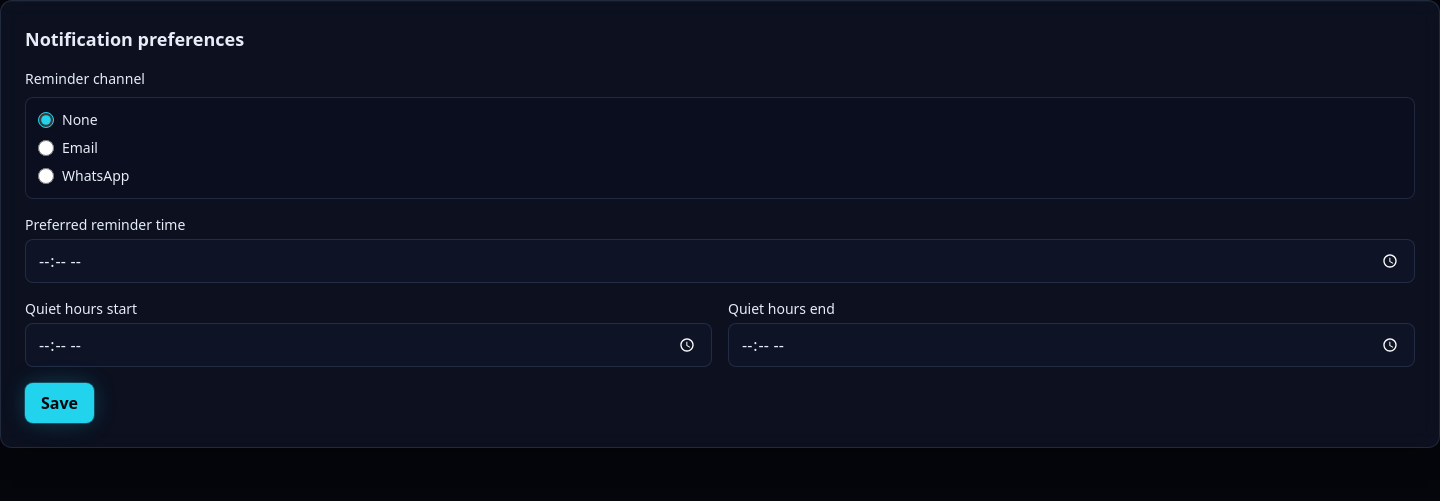
Scenario: NotificationPreferencesForm › saves successfully and shows a confirmation
The width and height of the screenshot is (1440, 501).
What coordinates should you click on to do the following:
click the radio button labelled "Email"
I would click on:
 (46, 148)
Its box is 38,140 -> 54,156.
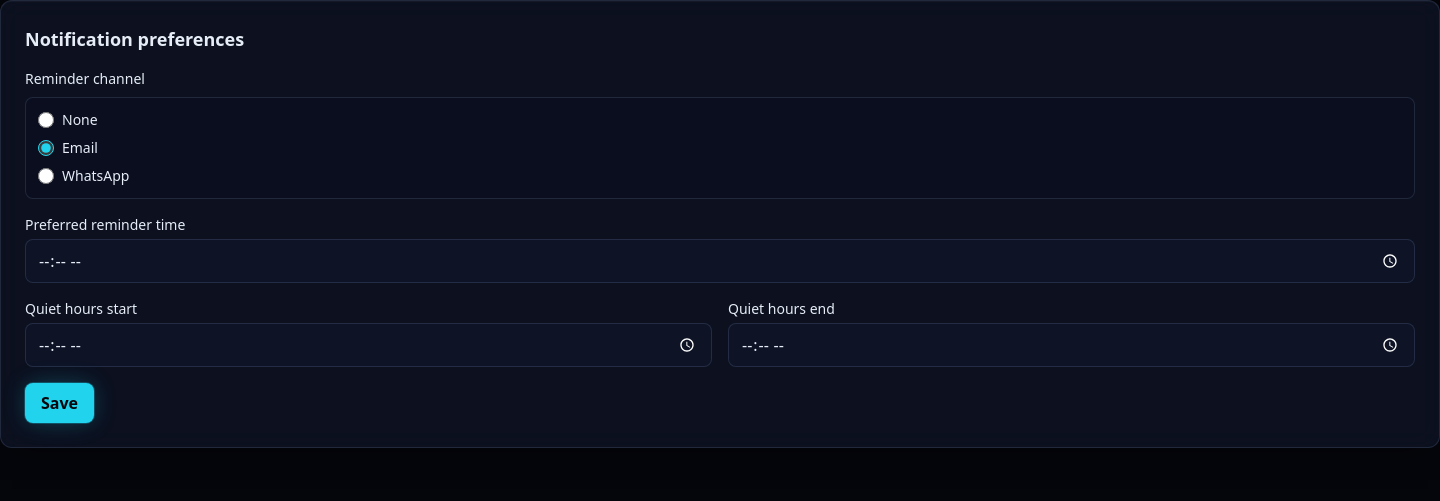
What coordinates should you click on to do the following:
click the button "Save"
I would click on:
 (60, 403)
Its box is 25,383 -> 94,423.
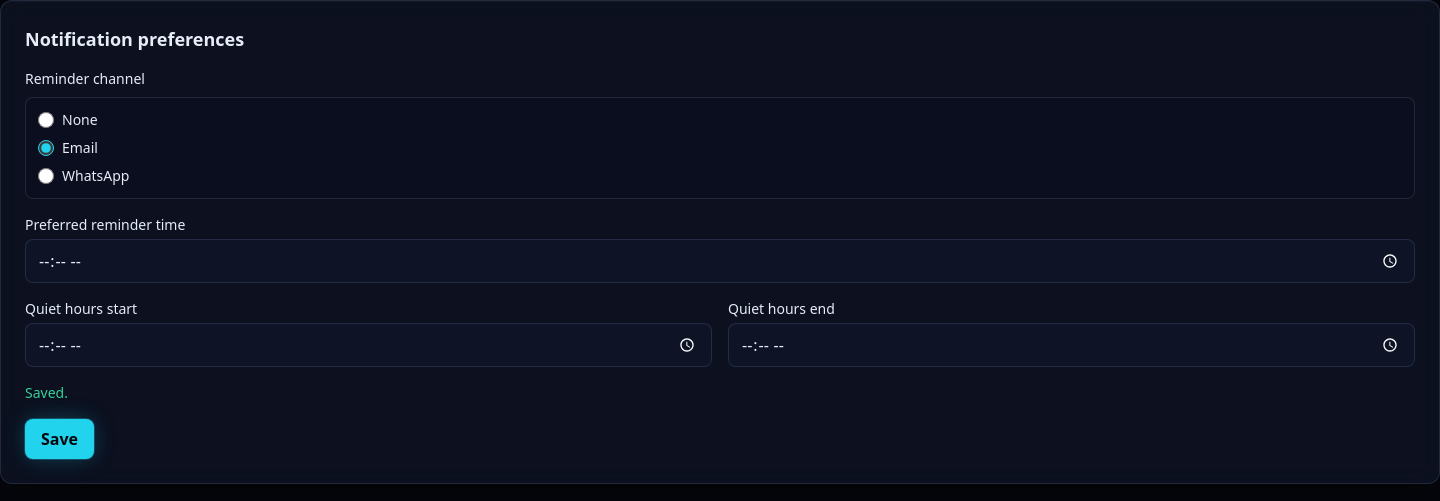
Check: the text "Saved." is shown, box 25,383 -> 68,402
